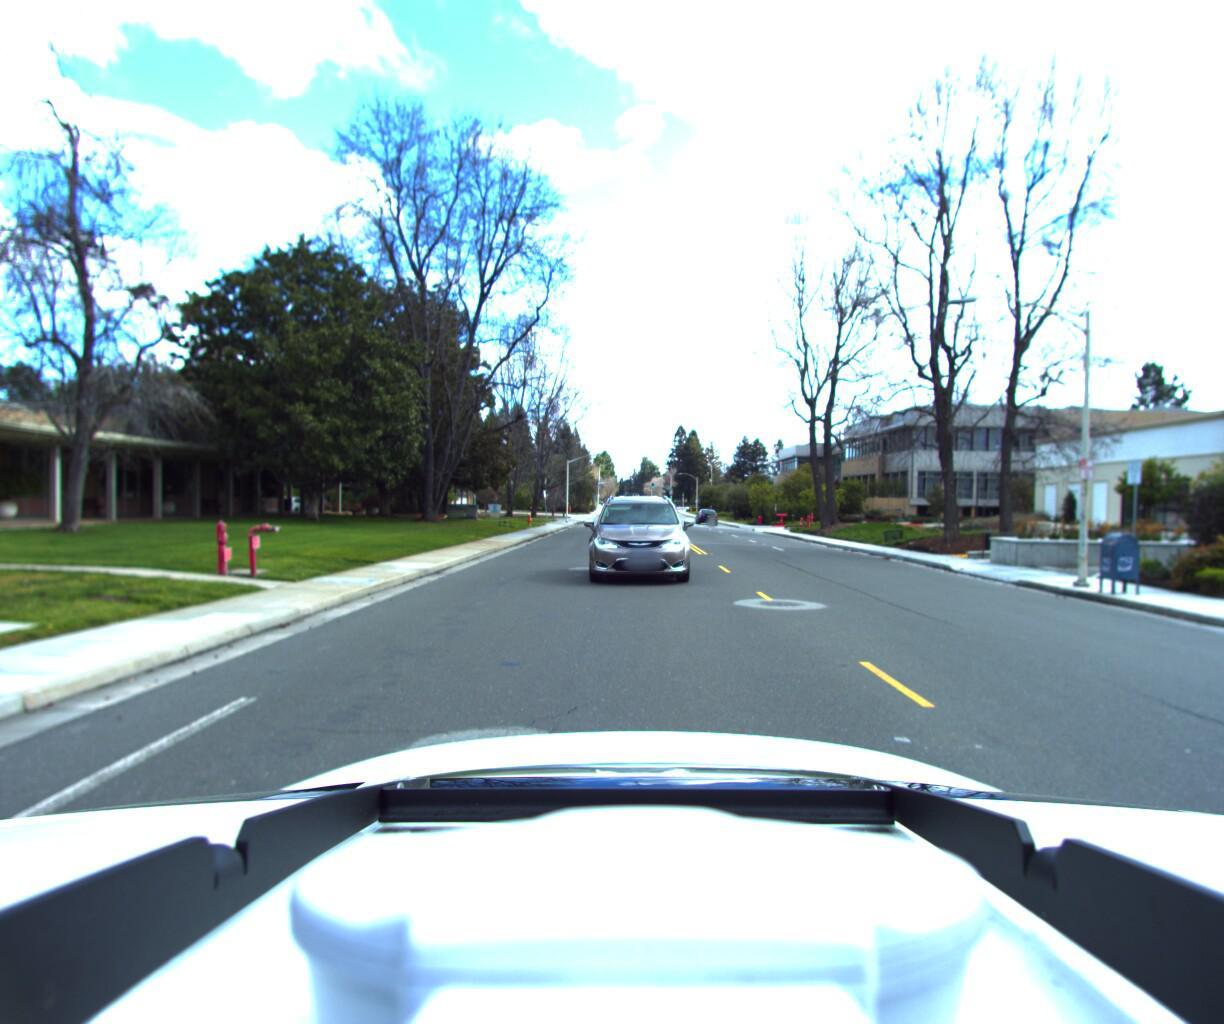car: (579, 493, 691, 595), (693, 517, 717, 532)
